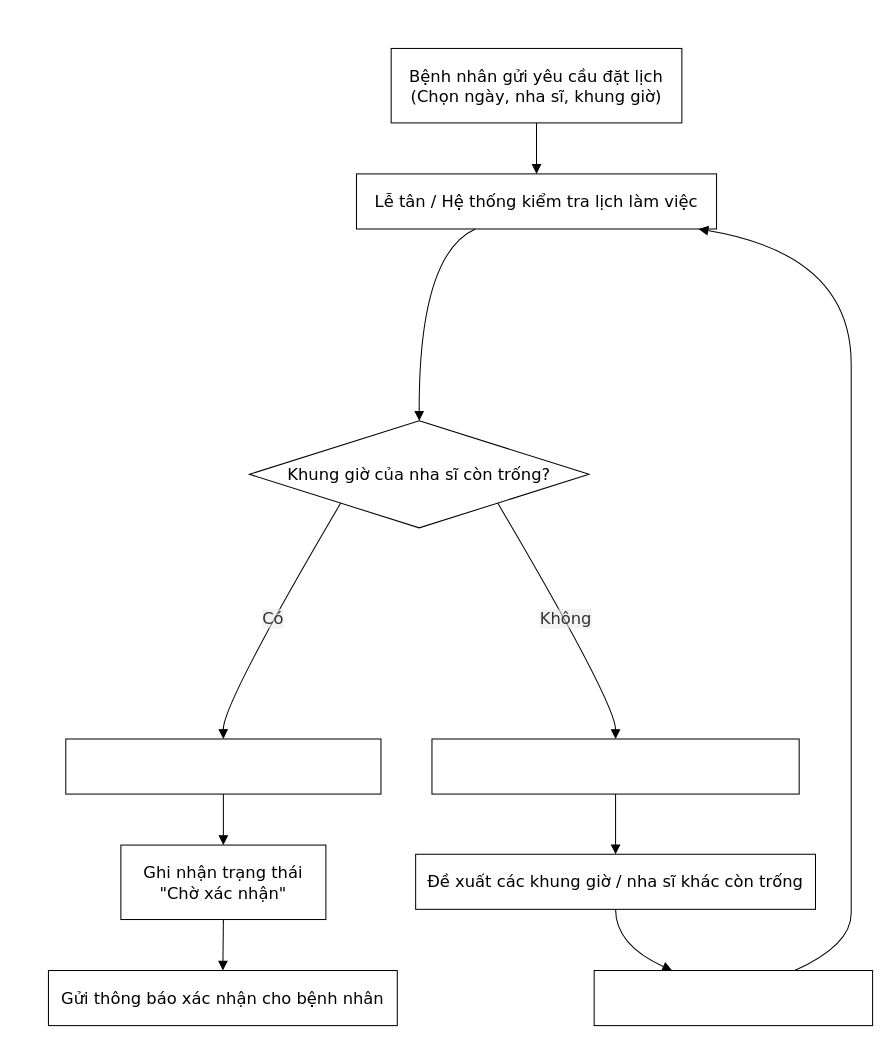
Image size: 890x1043. Some labels were removed from this diagram. The shapes that lost their labels are listed below. From the top down, each one's centre as x and y in pixels, then its label:
the point at 223,766: Hệ thống tạo bản ghi lịch hẹn mới
the point at 615,766: Hệ thống thông báo khung giờ đã bị trùng
the point at 733,998: Bệnh nhân chọn lại khung giờ
